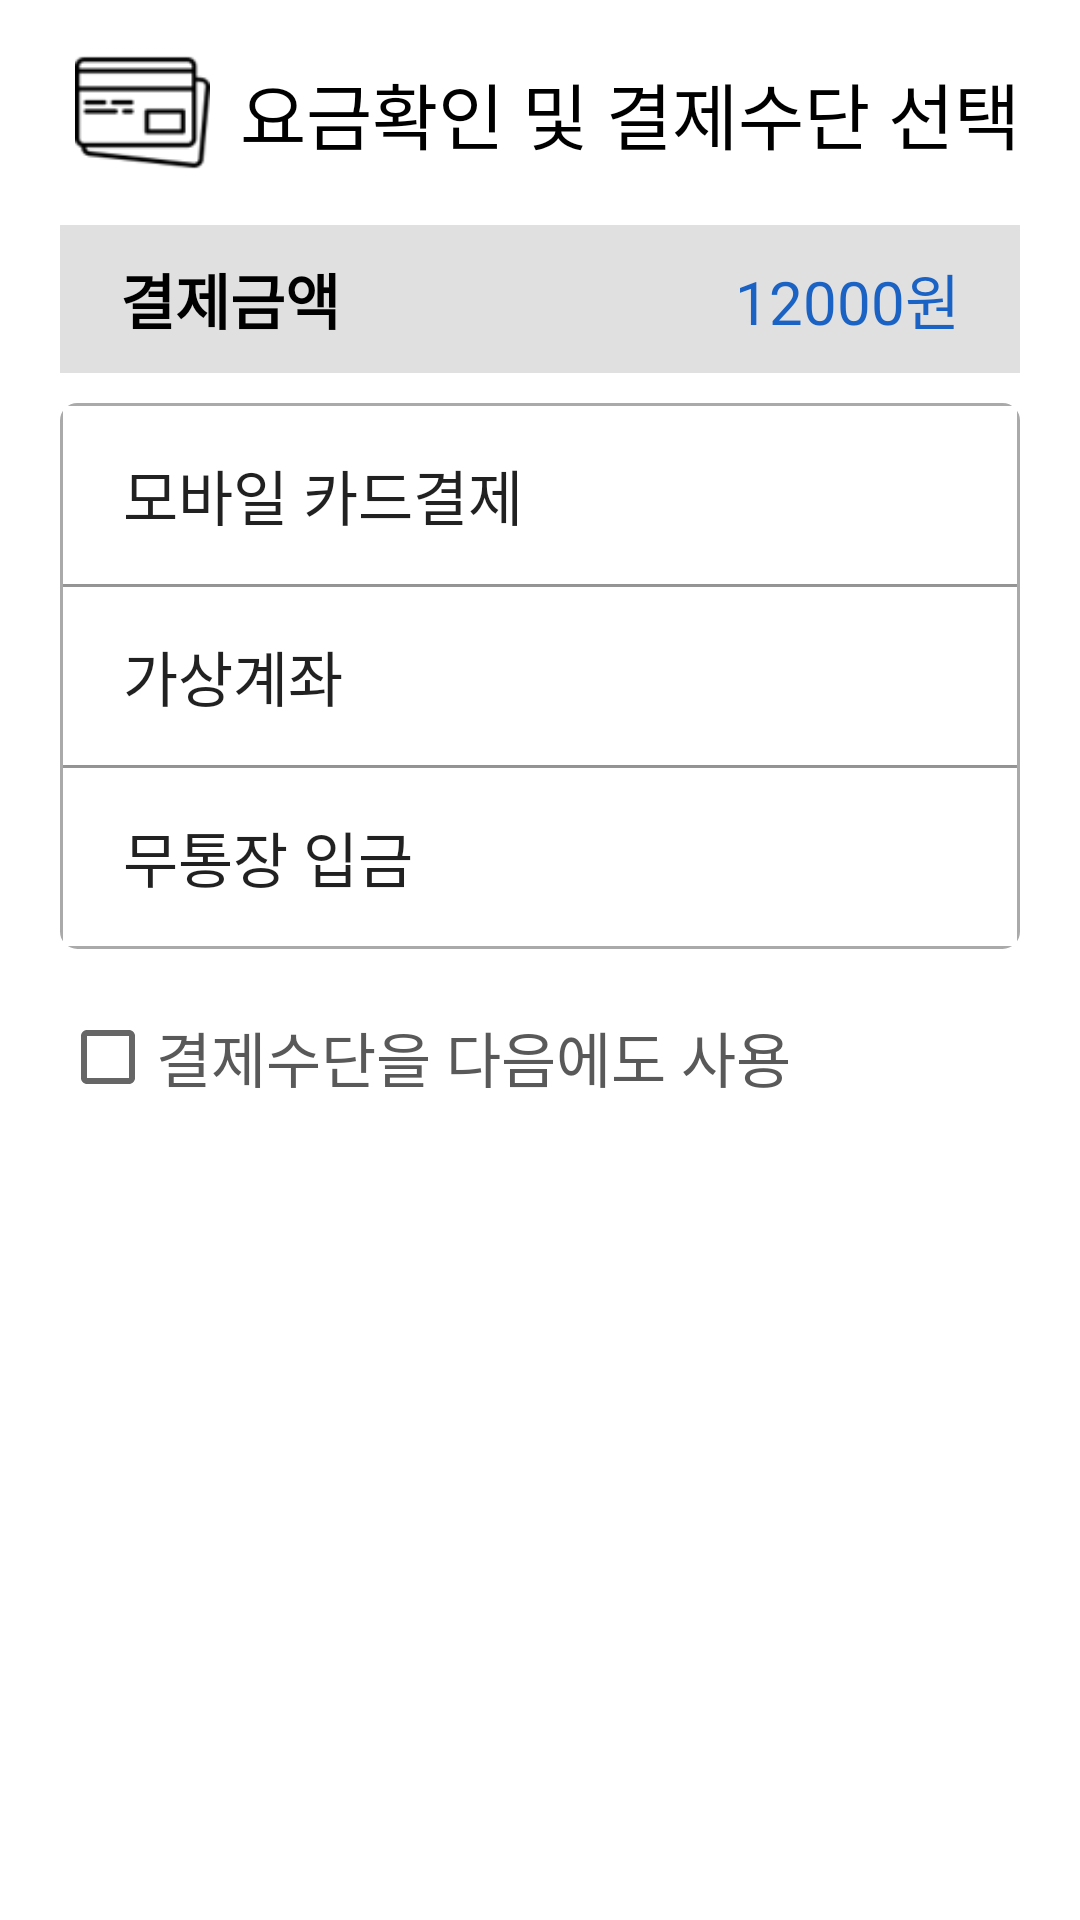

Icons on this 1080px×1920px Android screen, each with its box as (x1, y1, x2, y2):
pay: (75, 56, 210, 169)
